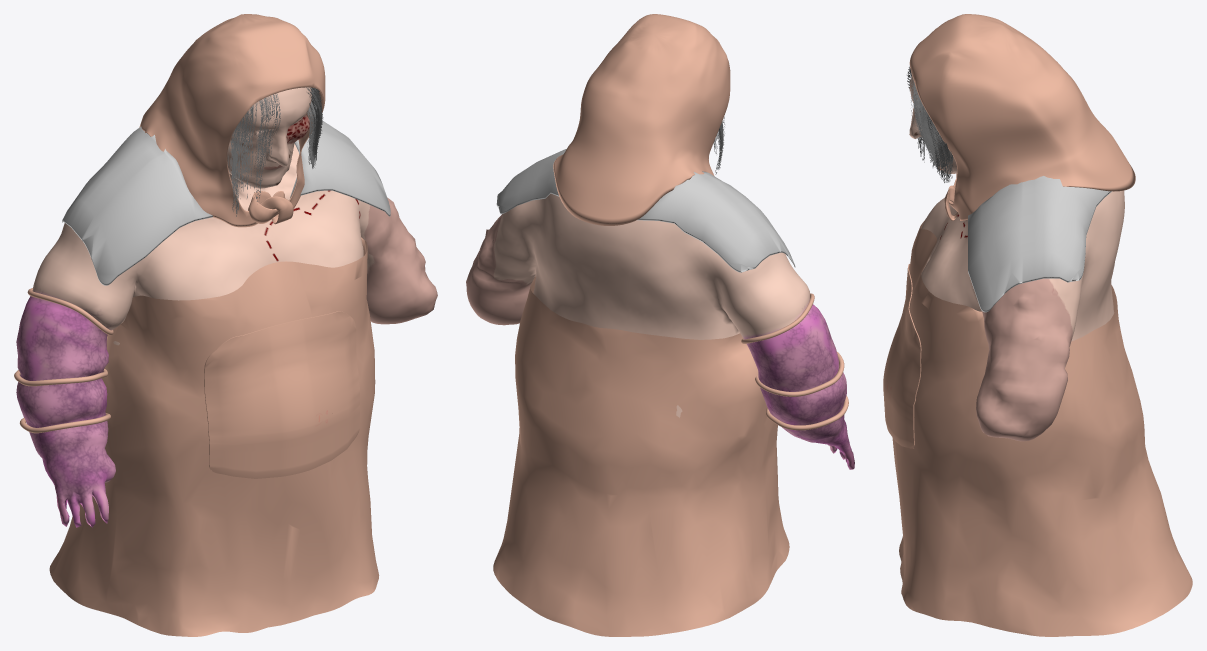
The model's file is JAGA Model.fbx.
3 renders of one model, left to right at view 1: azimuth 30°, elevation 25°; view 2: azimuth 150°, elevation 25°; view 3: azimuth 270°, elevation 25°, orthographic. The views are drawn at different scales.
Parts seen in each view (by area): view 1: Plane.001, Jaga.001, Plane.003, Plane.002, Plane, Mesh, NurbsPath; view 2: Plane.001, Jaga.001, Plane.002, Plane, NurbsPath, NurbsPath.002; view 3: Plane.001, Plane.002, Jaga.001, Plane, Plane.003, Mesh.
Boxes of the visible parts, x1,y1,x2,y2 form: Plane.001: (49, 237, 379, 636); Jaga.001: (16, 87, 437, 527); Plane.003: (204, 311, 359, 478); Plane.002: (139, 14, 325, 227); Plane: (62, 121, 390, 285); Mesh: (228, 87, 323, 216); NurbsPath: (14, 369, 107, 386); Plane.001: (493, 276, 789, 636); Jaga.001: (466, 193, 854, 469); Plane.002: (553, 14, 730, 225); Plane: (496, 149, 795, 272); NurbsPath: (755, 352, 844, 396); NurbsPath.002: (766, 395, 848, 430); Plane.001: (892, 219, 1192, 636); Plane.002: (909, 14, 1135, 220); Jaga.001: (909, 76, 1124, 441); Plane: (968, 176, 1111, 312); Plane.003: (883, 264, 921, 448); Mesh: (907, 66, 953, 182).
Size of the model in its own units: 701 by 972 by 482.
